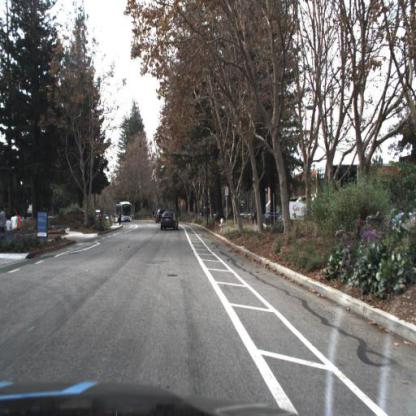car: (162, 212, 179, 233), (156, 211, 162, 225)
pedestrian: (1, 208, 22, 239), (99, 208, 104, 232), (119, 212, 123, 227)
truck: (115, 203, 132, 221)
